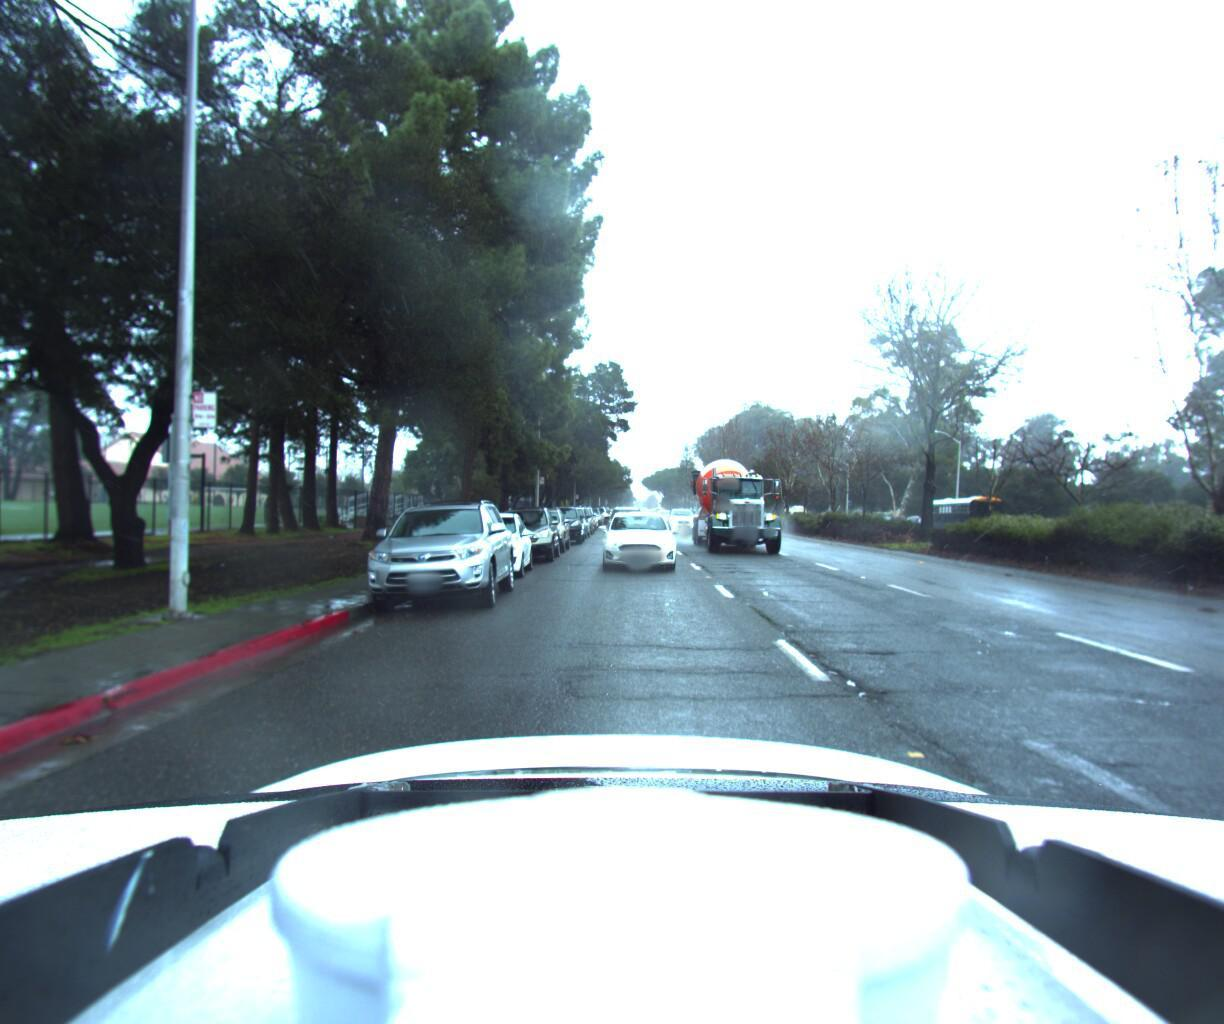bus: (914, 492, 1008, 542)
car: (348, 491, 515, 616), (440, 510, 532, 579), (599, 505, 677, 573), (479, 504, 556, 562), (506, 503, 567, 552), (531, 504, 582, 543), (665, 505, 699, 533)
truck: (684, 445, 796, 555)
